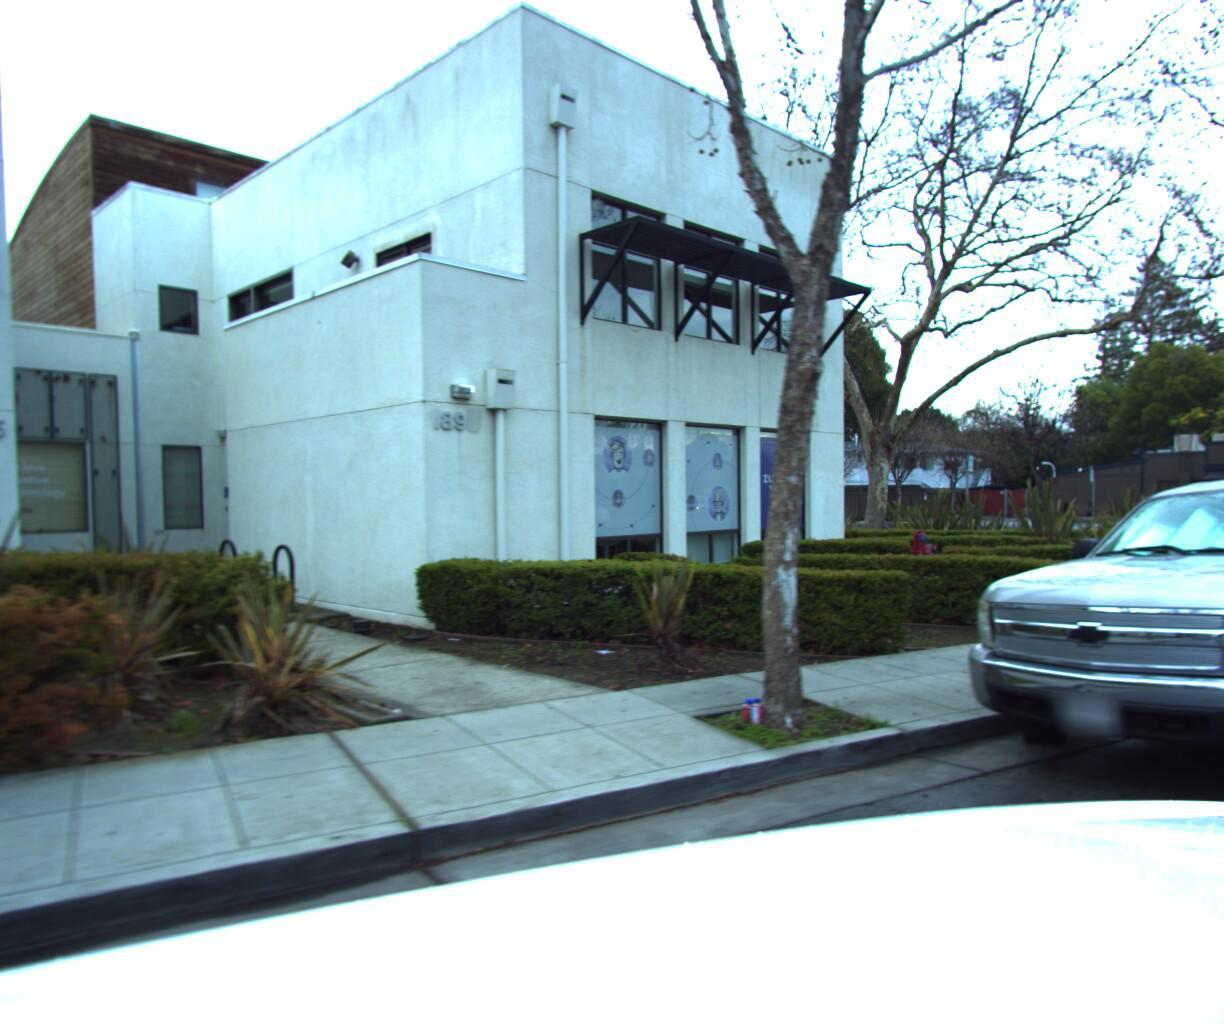car: (924, 432, 1224, 853)
